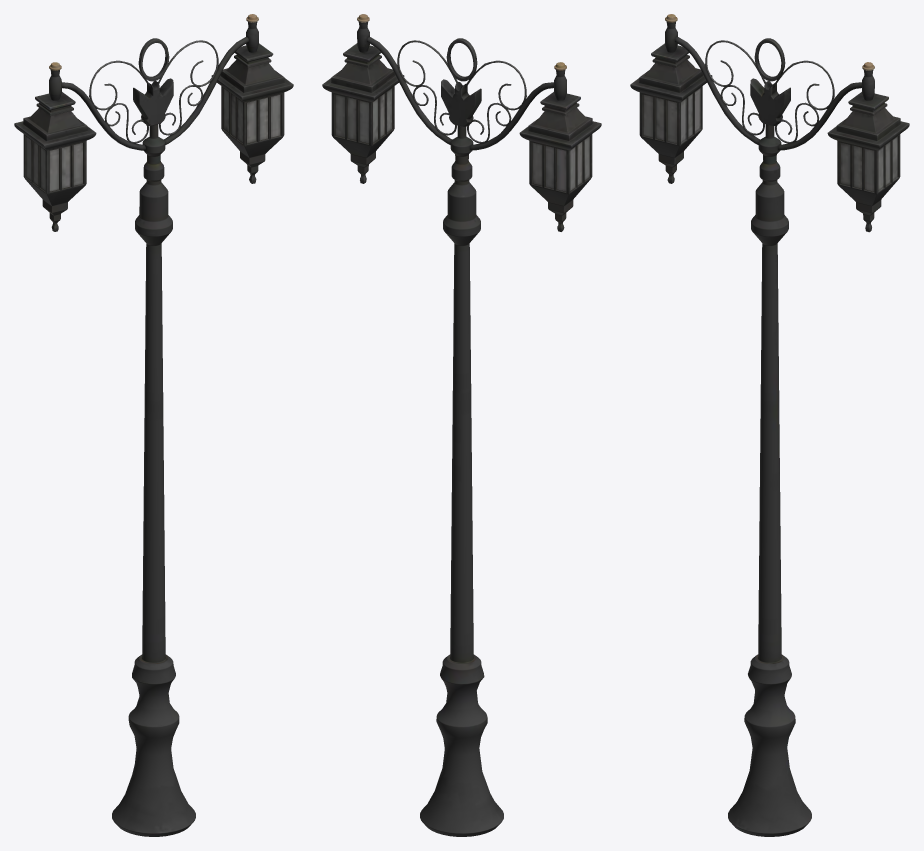
The model's file is SM_LightPole_A4_78d46e.glb.
3 views of the same model, side by side, from view 1: azimuth 30°, elevation 25°; view 2: azimuth 150°, elevation 25°; view 3: azimuth 330°, elevation 25° (orthographic).
Size of the model in its own units: 0.963 by 2.88 by 0.2813.
Materials: 1 (1 with a texture image).
